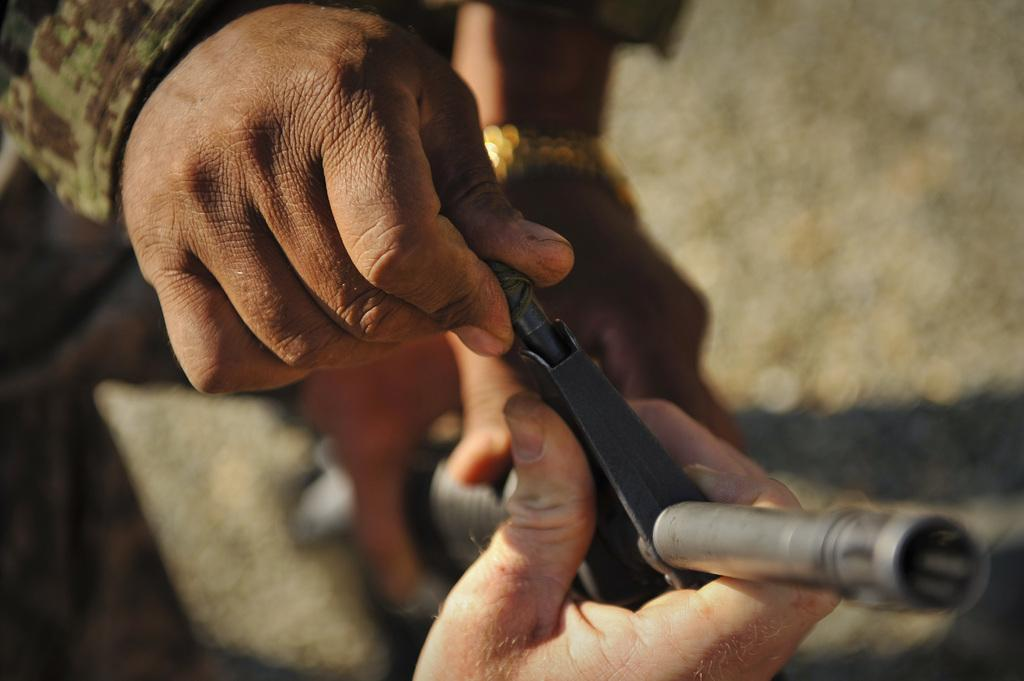Shotgun: (273, 262, 986, 614), (392, 262, 990, 611)
